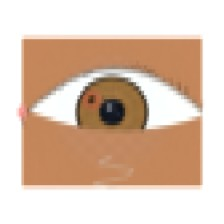foreign_body_visible: (72, 84, 111, 115)
